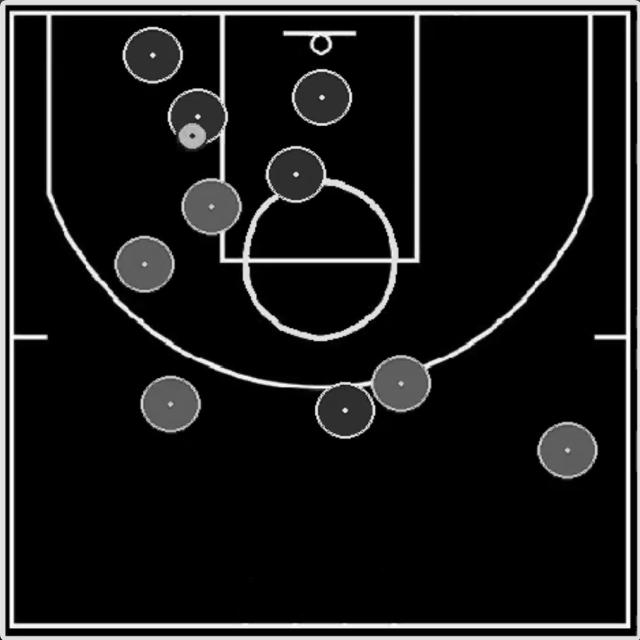Basketball: (177, 122, 205, 150)
Team_A: (291, 69, 353, 126), (315, 382, 375, 439), (168, 89, 227, 146), (122, 28, 182, 84), (266, 146, 326, 202)
Team_B: (537, 421, 597, 479), (371, 355, 431, 412), (181, 179, 242, 235), (114, 236, 174, 292), (141, 376, 201, 432)
